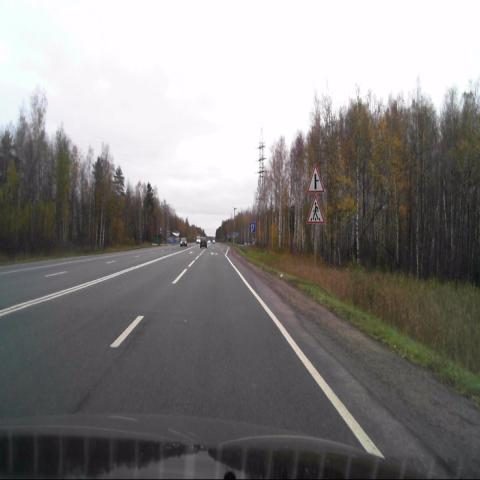1_22: (307, 195, 325, 224)
2_3_2: (308, 165, 324, 193)
5_15_3: (250, 222, 256, 233)
